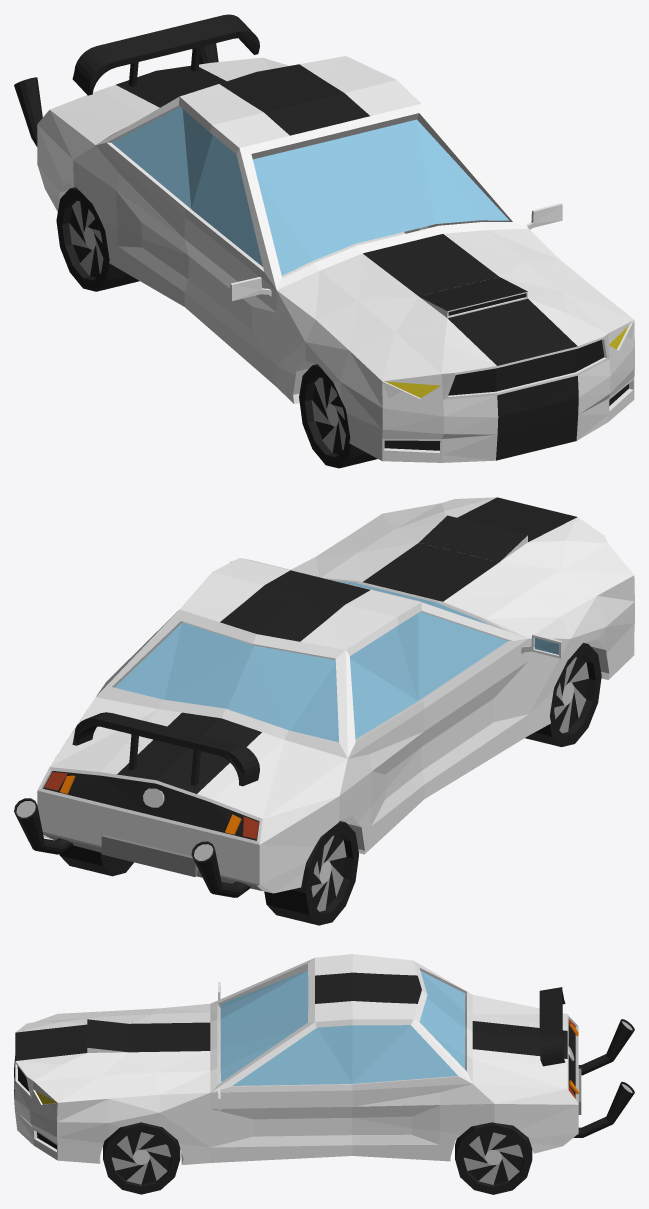
The model's file is sports-car.glb.
3 renders of one model, top to bottom at view 1: azimuth 30°, elevation 25°; view 2: azimuth 150°, elevation 25°; view 3: azimuth 270°, elevation 25°, orthographic. The views are drawn at different scales.
Parts seen in each view (by area): view 1: chassis, extra-car-stuff, back-right-tire, front-right-tire, exhaust1; view 2: chassis, extra-car-stuff, back-right-tire, front-right-tire, exhaust1, back-left-tire; view 3: chassis, extra-car-stuff, back-left-tire, front-left-tire, exhaust1.
Part boxes in pixels (x1=…): chassis: x1=37, y1=56, x2=634, y2=462; extra-car-stuff: x1=72, y1=14, x2=628, y2=397; back-right-tire: x1=56, y1=187, x2=139, y2=291; front-right-tire: x1=299, y1=364, x2=377, y2=468; exhaust1: x1=14, y1=43, x2=218, y2=146; chassis: x1=37, y1=497, x2=634, y2=893; extra-car-stuff: x1=44, y1=580, x2=507, y2=896; back-right-tire: x1=264, y1=821, x2=358, y2=925; front-right-tire: x1=525, y1=642, x2=601, y2=746; exhaust1: x1=14, y1=798, x2=249, y2=897; back-left-tire: x1=59, y1=845, x2=133, y2=876; chassis: x1=14, y1=954, x2=578, y2=1164; extra-car-stuff: x1=35, y1=970, x2=582, y2=1137; back-left-tire: x1=455, y1=1122, x2=532, y2=1194; front-left-tire: x1=103, y1=1122, x2=180, y2=1194; exhaust1: x1=577, y1=1019, x2=634, y2=1137.
Size of the model in its own units: 4.23 by 2.77 by 9.5.
2 materials, 2 textured.
